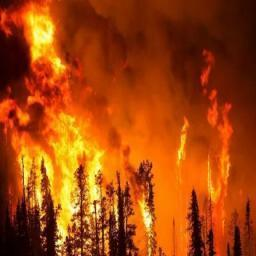Heavy smoke: (1, 1, 256, 256)
Large fire: (20, 13, 150, 256), (176, 52, 238, 204)
